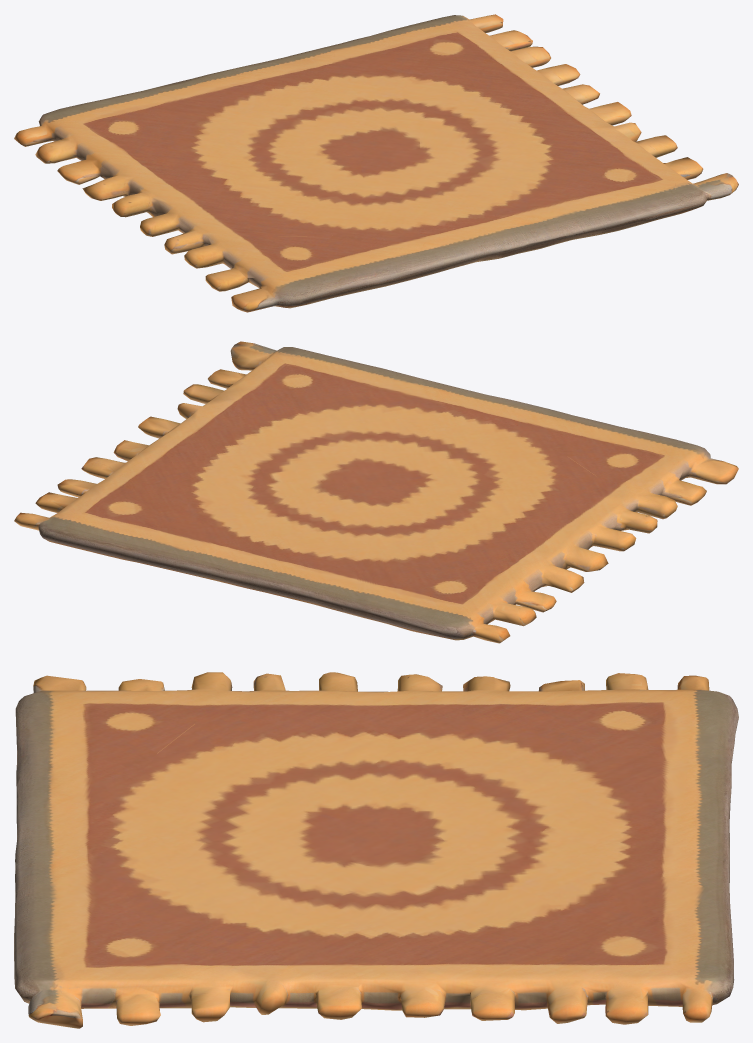
The model's file is rug_squre.glb.
3 renders of one model, top to bottom at view 1: azimuth 30°, elevation 25°; view 2: azimuth 150°, elevation 25°; view 3: azimuth 270°, elevation 25°, orthographic. The views are drawn at different scales.
Bounding box in the file's own units: 1.98 × 0.1025 × 1.75.
Materials: 1 (1 with a texture image).
